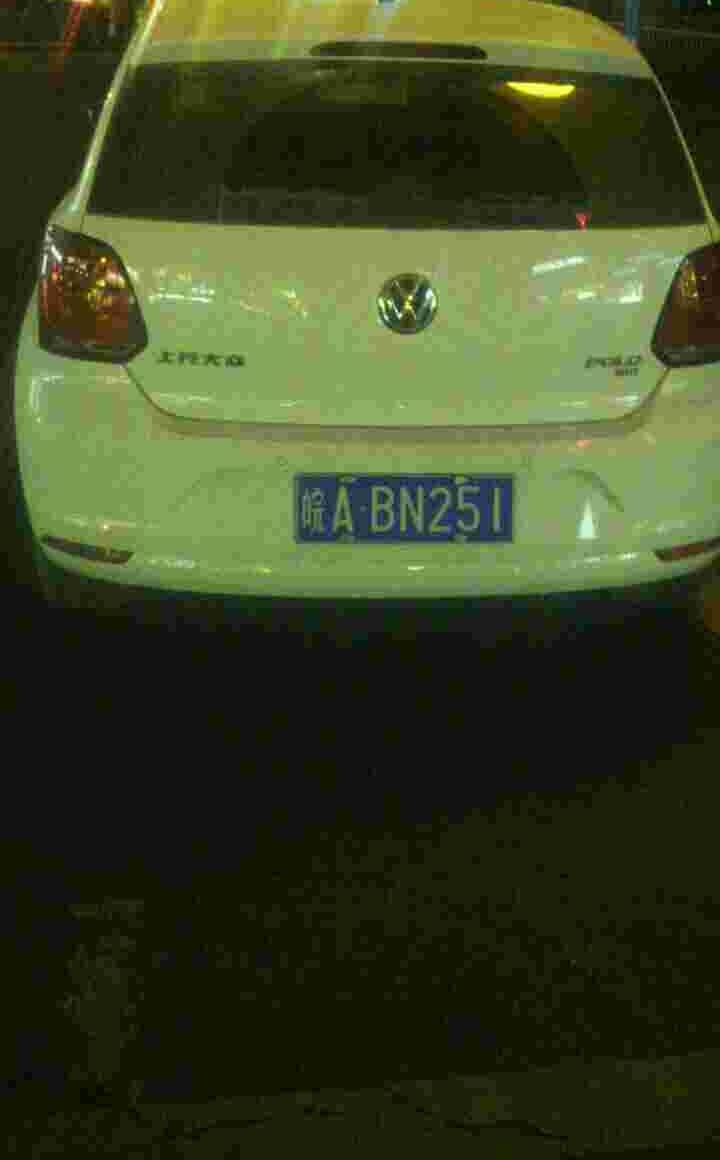license_plate: (303, 471, 506, 544)
